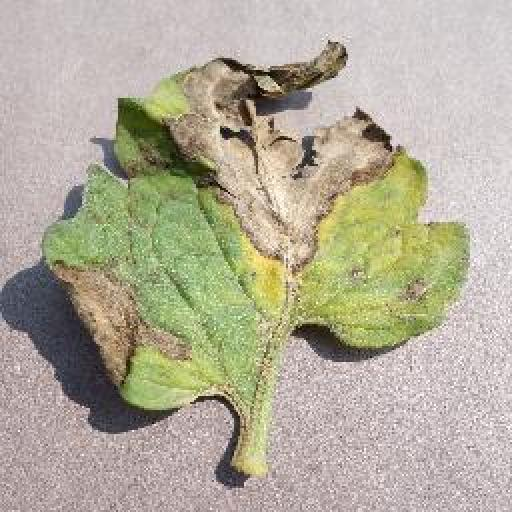disease_tomato: (43, 32, 473, 415)
